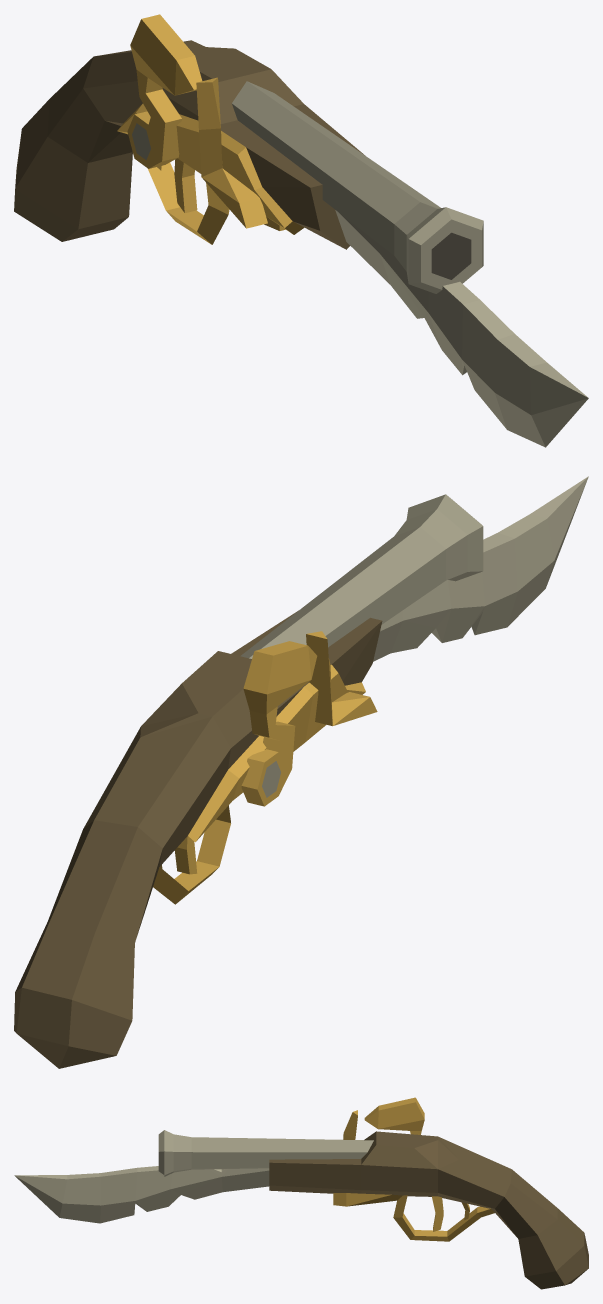
Rendered from Pistol_2.fbx.
3 renders of one model, top to bottom at view 1: azimuth 30°, elevation 25°; view 2: azimuth 150°, elevation 25°; view 3: azimuth 270°, elevation 25°, orthographic. The views are drawn at different scales.
Parts seen in each view (by area): view 1: Pistol_2; view 2: Pistol_2; view 3: Pistol_2.
Boxes of the visible parts, <box> form: Pistol_2: <box>14,14,588,447</box>; Pistol_2: <box>14,476,588,1068</box>; Pistol_2: <box>14,1097,588,1289</box>.
Bounding box in the file's own units: 8.37 × 20.21 × 62.35.
